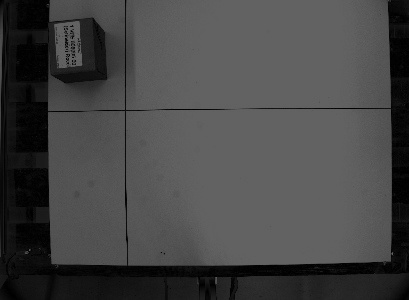b5: (44, 15, 109, 85)
